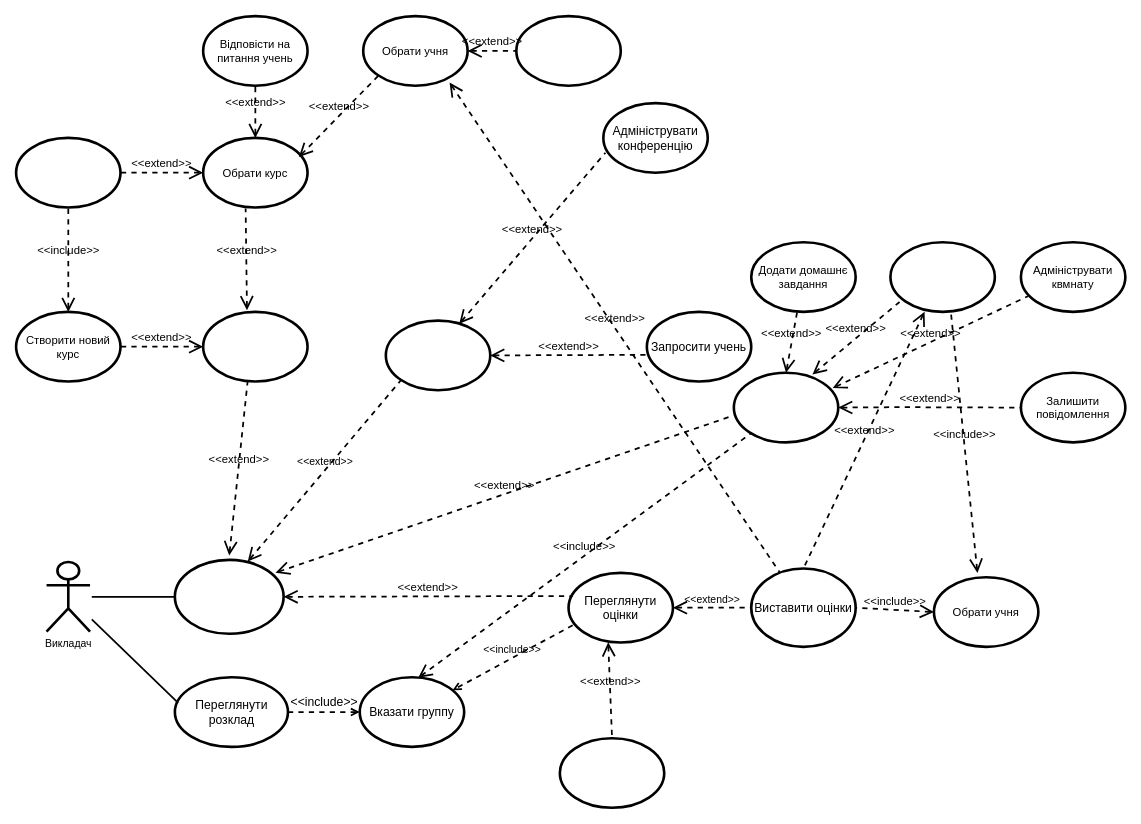
Some shapes in this 1141 by 824 pixel diagram are drawn without their labels. Here are the shapes that lost their labels. From the top down, the centre of each, then its label:
point (568, 50): Перегляунти матеріали учня
point (67, 172): Редагувати матеріали курсу
point (942, 277): Перевірити домашнє завдання
point (254, 346): Переглянути список моїх курсів (де я викладач)
point (437, 355): Провести онлайн заняття
point (785, 407): Переглянути virtual classroom
point (228, 596): Авторизуватись у системі
point (611, 772): Застосувати фільтри
